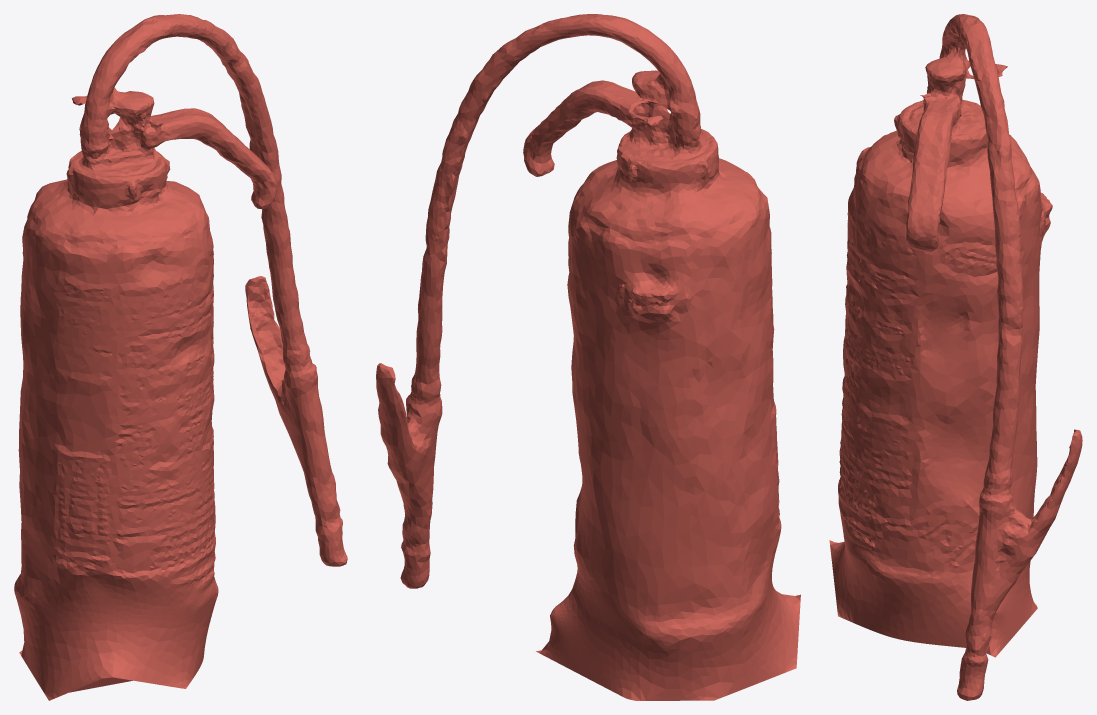
File: fire_extinguisher.glb
3 views of the same model, side by side, from view 1: azimuth 30°, elevation 25°; view 2: azimuth 150°, elevation 25°; view 3: azimuth 270°, elevation 25° (orthographic). The views are drawn at different scales.
Parts seen in each view (by area): view 1: world; view 2: world; view 3: world.
Boxes of the visible parts, x1,y1,x2,y2 form: world: (14,14,347,700); world: (376,14,800,700); world: (829,14,1082,700).
Bounding box in the file's own units: 0.5707 × 1 × 0.3723.
